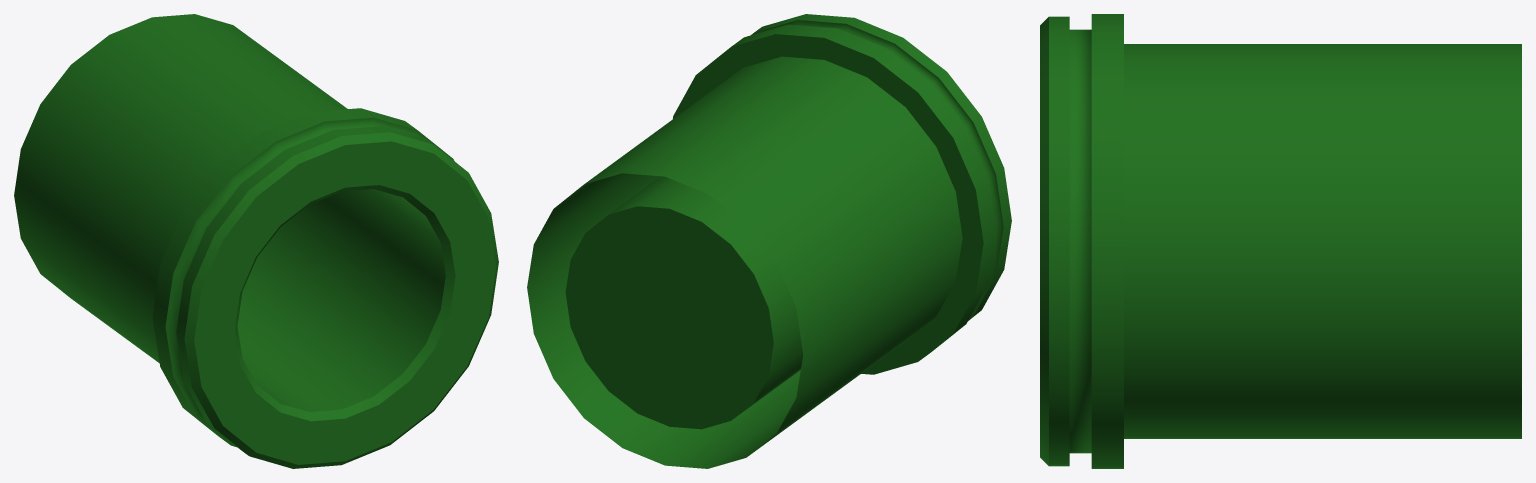
The model's file is Pipe for Water.obj.
The picture shows the model from 3 angles, left to right: view 1: azimuth 30°, elevation 25°; view 2: azimuth 150°, elevation 25°; view 3: azimuth 270°, elevation 25°; orthographic projection. The views are drawn at different scales.
Parts seen in each view (by area): view 1: Pipe_for_Water_low low; view 2: Pipe_for_Water_low low; view 3: Pipe_for_Water_low low.
Boxes of the visible parts, x1,y1,x2,y2 form: Pipe_for_Water_low low: (14,14,498,468); Pipe_for_Water_low low: (527,14,1011,468); Pipe_for_Water_low low: (1040,14,1521,468).
Size of the model in its own units: 2.3 by 2.3 by 2.42.
